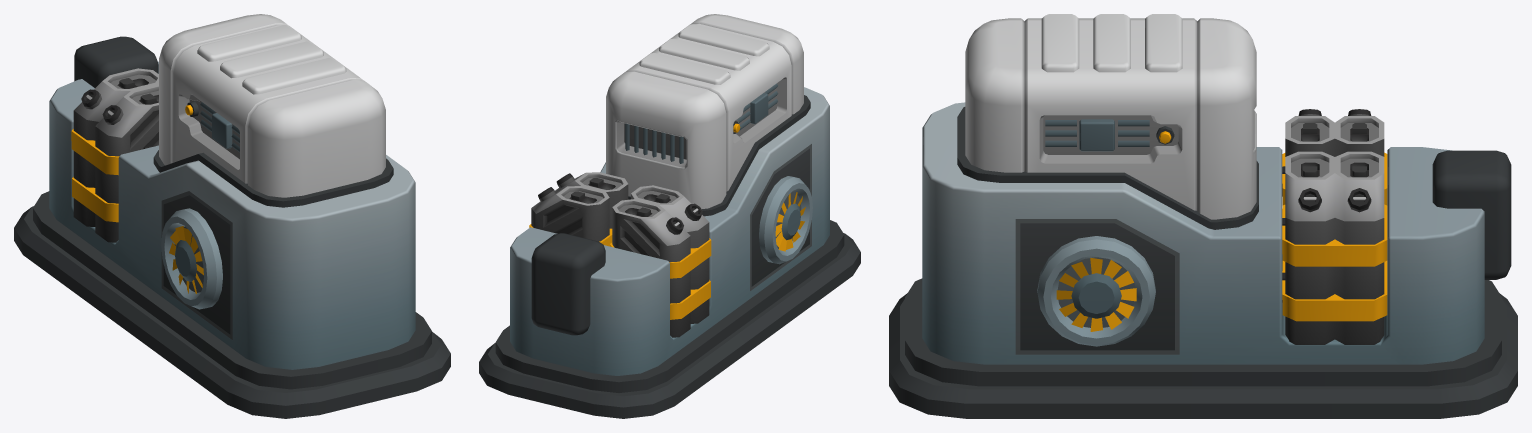
File: Generator_015.glb
3 renders of one model, left to right at view 1: azimuth 30°, elevation 25°; view 2: azimuth 150°, elevation 25°; view 3: azimuth 270°, elevation 25°, orthographic. The views are drawn at different scales.
Visible parts, largest first — view 1: Generator_015, Generator_rotor_014; view 2: Generator_015, Generator_rotor_014; view 3: Generator_015, Generator_rotor_014.
Boxes of the visible parts, x1,y1,x2,y2 form: Generator_015: [14, 14, 450, 418]; Generator_rotor_014: [169, 226, 203, 293]; Generator_015: [479, 14, 860, 418]; Generator_rotor_014: [775, 192, 805, 251]; Generator_015: [889, 14, 1517, 418]; Generator_rotor_014: [1056, 257, 1136, 331].
Size of the model in its own units: 1.67 by 2.06 by 3.66.
Materials: 1 (1 with a texture image).
